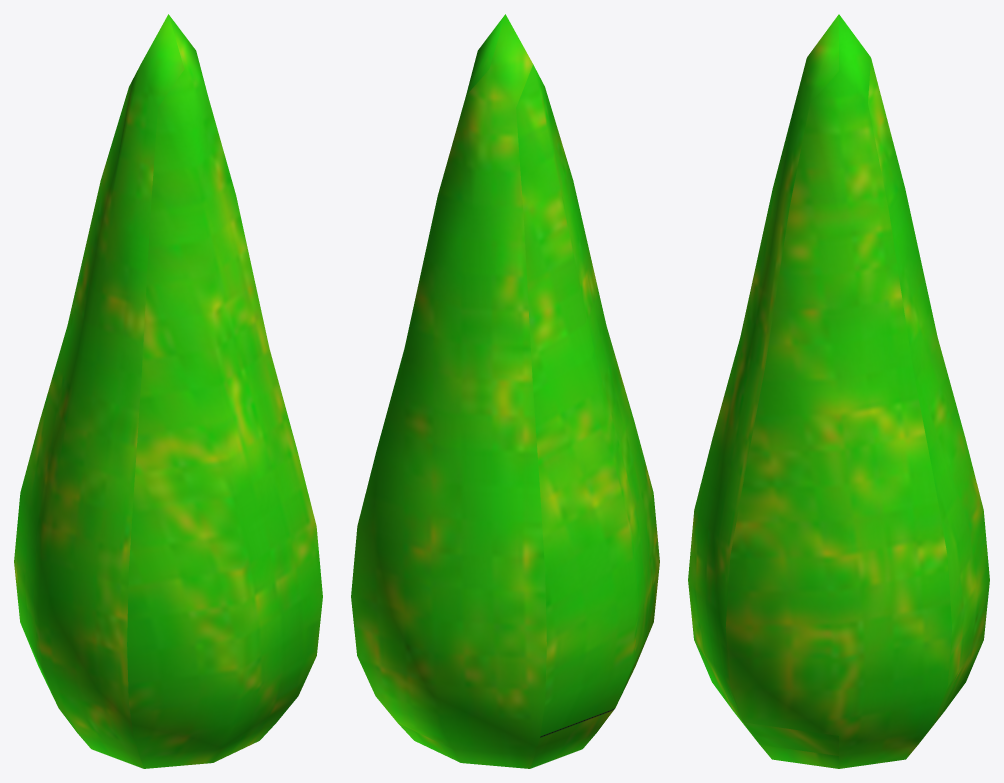
The model's file is Poison.fbx.
3 renders of one model, left to right at view 1: azimuth 30°, elevation 25°; view 2: azimuth 150°, elevation 25°; view 3: azimuth 270°, elevation 25°, orthographic.
Parts seen in each view (by area): view 1: Cube; view 2: Cube; view 3: Cube.
Boxes of the visible parts, bbox=[...] form: Cube: bbox=[14, 14, 322, 768]; Cube: bbox=[351, 14, 659, 768]; Cube: bbox=[688, 14, 989, 768].
Size of the model in its own units: 200 by 535 by 200.
